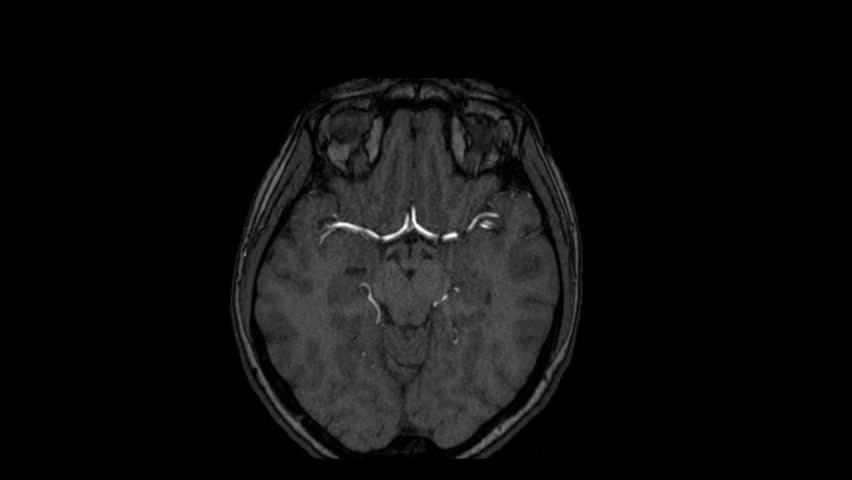Normal_Brain: (147, 7, 690, 480)
